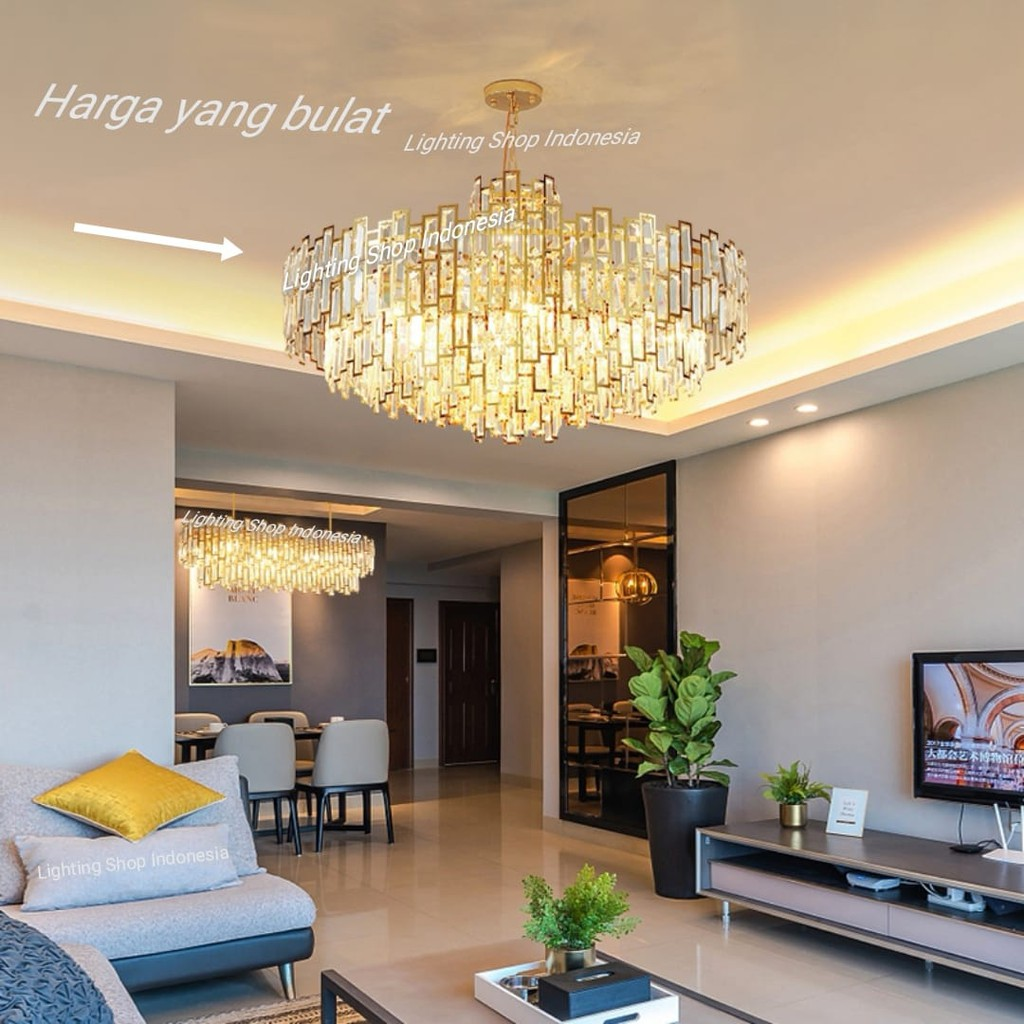bantal: (14, 833, 238, 907), (45, 749, 222, 833)
kursi: (315, 725, 395, 840), (232, 724, 304, 850)
lukisan: (185, 594, 299, 690)
meja: (318, 932, 778, 1024)
sova: (6, 752, 310, 1024)
tanaman: (627, 638, 741, 817), (511, 859, 638, 985), (764, 761, 816, 839)
tv: (908, 644, 1024, 805)
